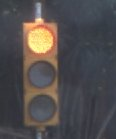Red: (18, 15, 66, 138)
